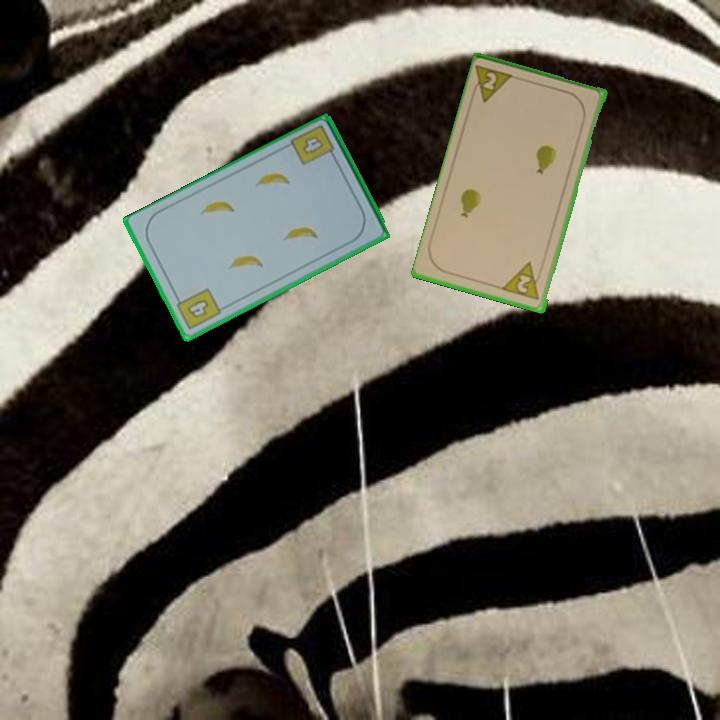2p: (468, 62, 518, 106), (500, 259, 545, 304)
4b: (172, 285, 224, 333), (287, 121, 339, 168)
